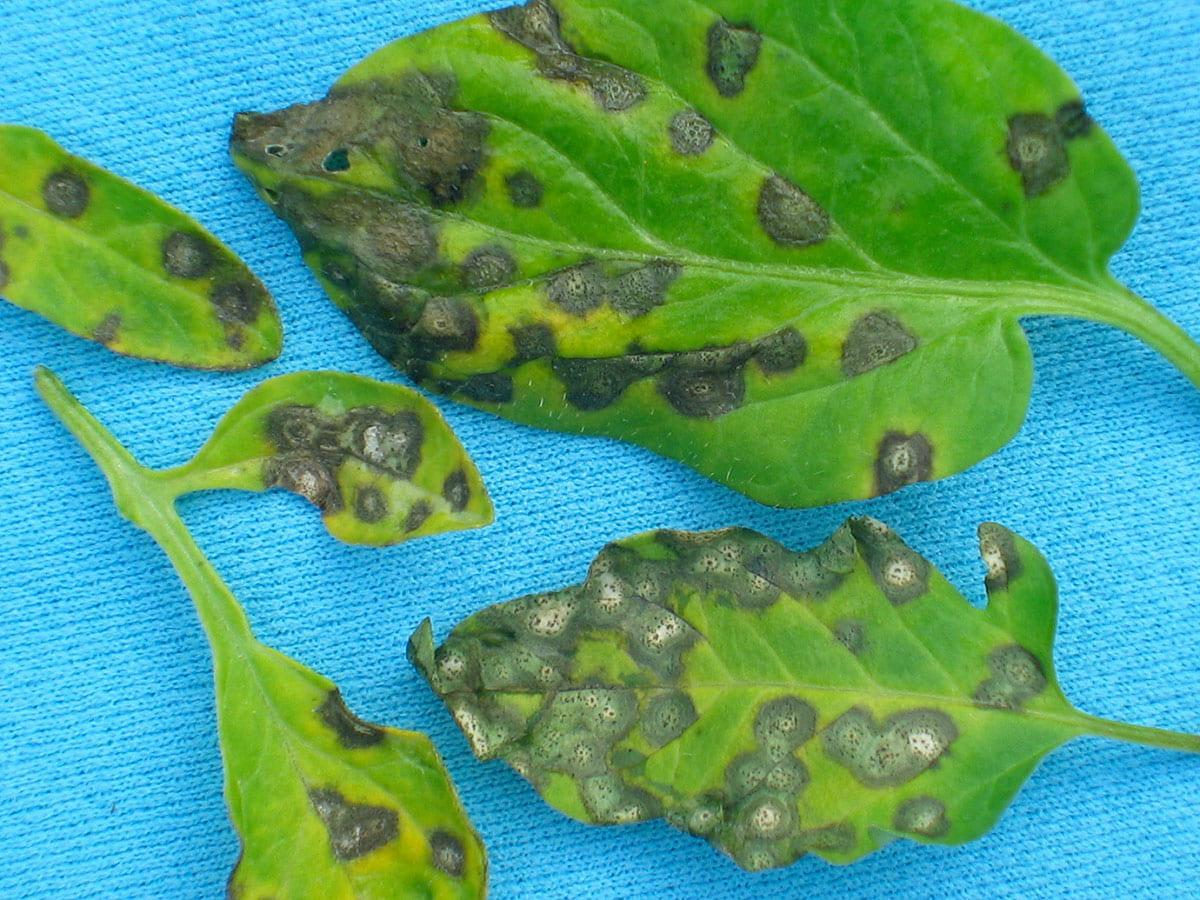black-spot: (649, 25, 852, 268)
